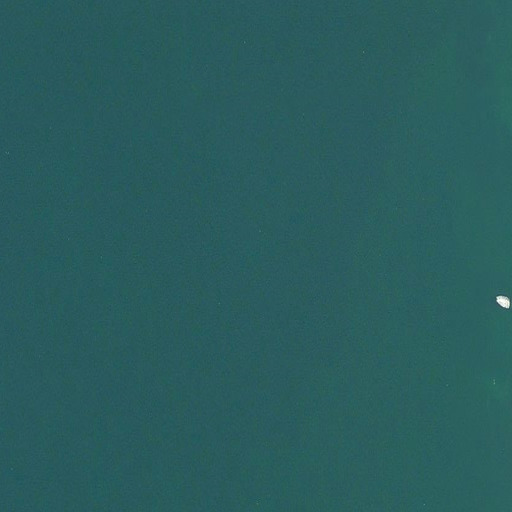ship: (494, 293, 511, 311)
